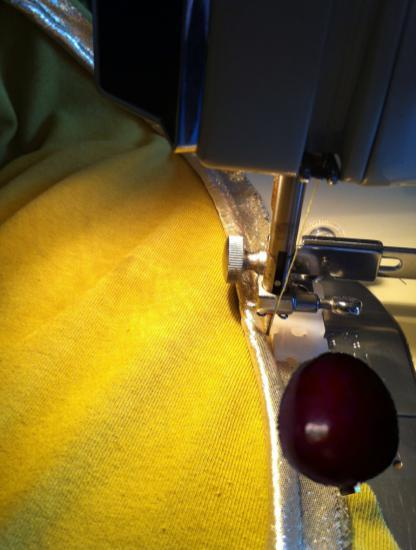Cherry: (266, 350, 412, 496)
